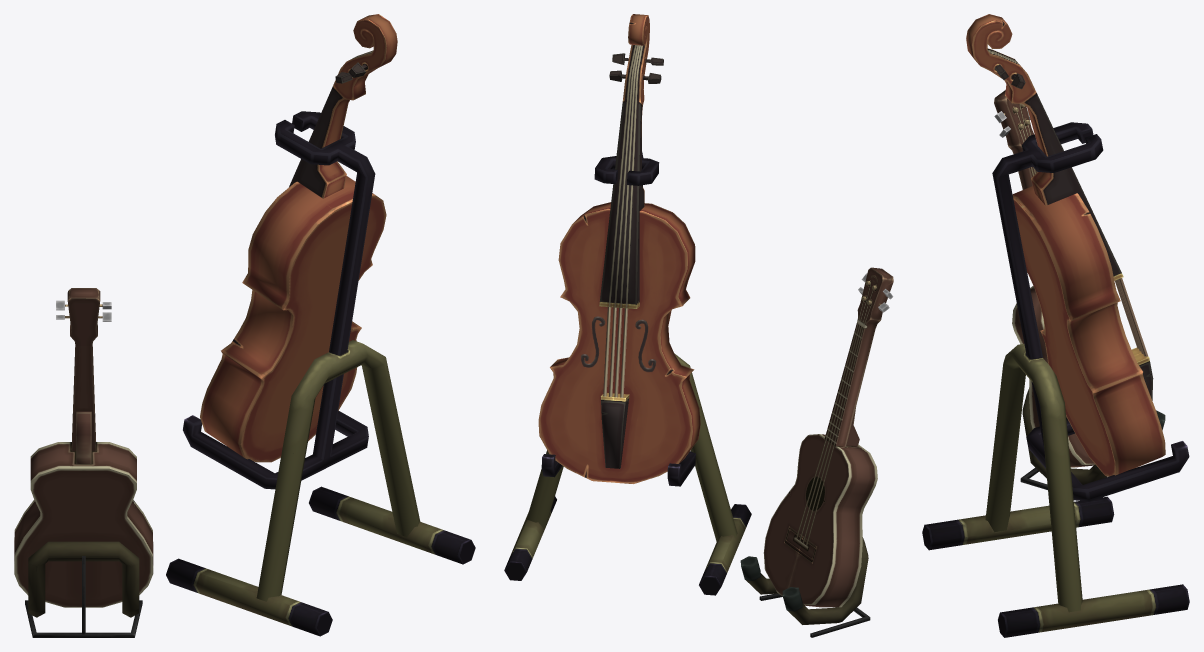
The model's file is Cello_and_Ukulele.glb.
3 renders of one model, left to right at view 1: azimuth 30°, elevation 25°; view 2: azimuth 150°, elevation 25°; view 3: azimuth 270°, elevation 25°, orthographic. The views are drawn at different scales.
Parts seen in each view (by area): view 1: Cube.001_Material.004_0, Cube_Material.003_0; view 2: Cube.001_Material.004_0, Cube_Material.003_0; view 3: Cube.001_Material.004_0, Cube_Material.003_0.
Boxes of the visible parts, x1=… form: Cube.001_Material.004_0: x1=166, y1=14, x2=475, y2=636; Cube_Material.003_0: x1=14, y1=288, x2=153, y2=637; Cube.001_Material.004_0: x1=504, y1=14, x2=751, y2=595; Cube_Material.003_0: x1=740, y1=267, x2=893, y2=637; Cube.001_Material.004_0: x1=922, y1=14, x2=1189, y2=637; Cube_Material.003_0: x1=994, y1=90, x2=1165, y2=489.
Size of the model in its own units: 734 by 974 by 412.
2 materials, 2 textured.
